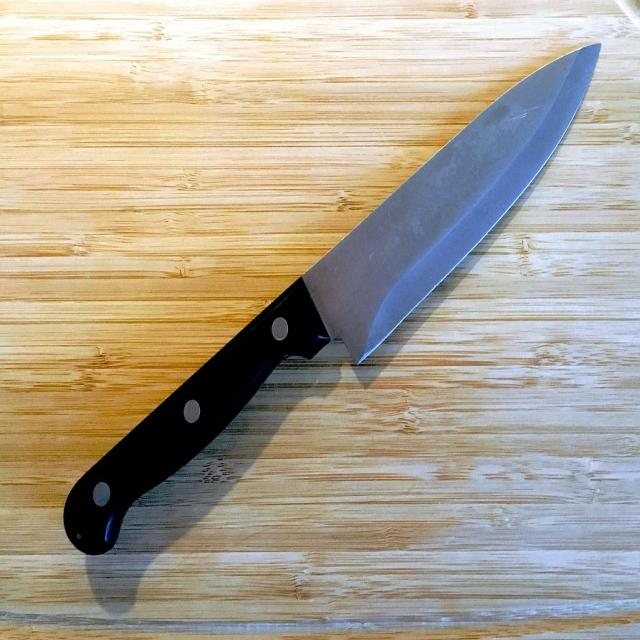Knife: (64, 44, 600, 554)
